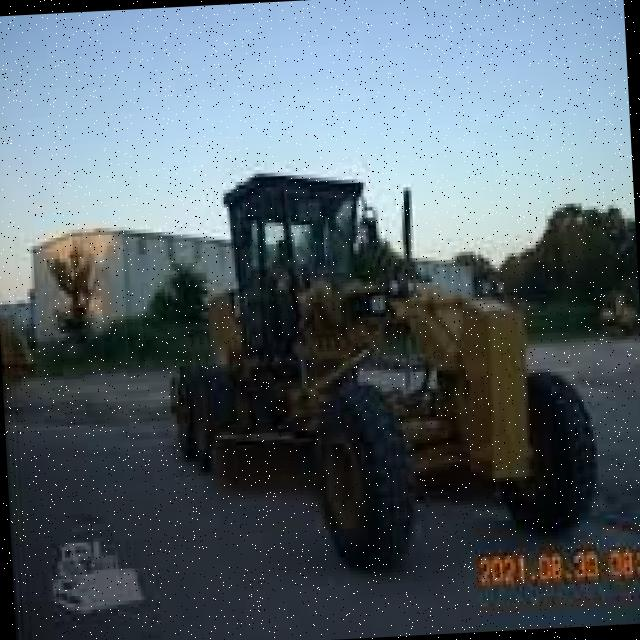Grader: (144, 116, 629, 581)
